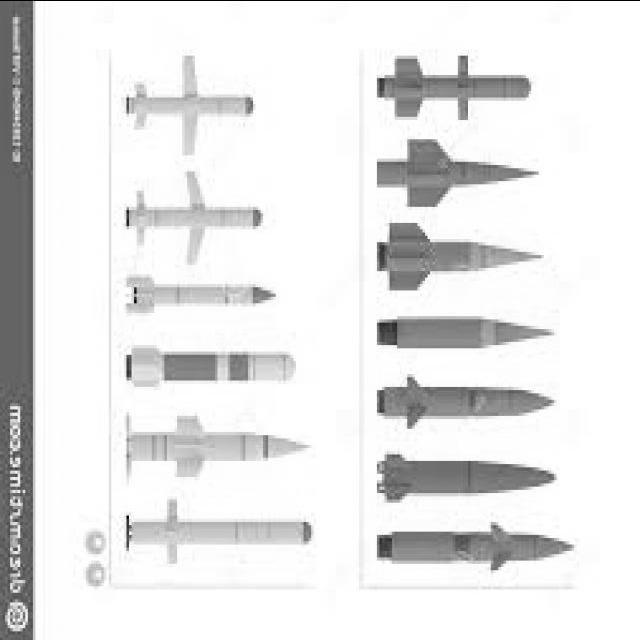missile: (109, 496, 325, 570), (376, 520, 586, 584), (356, 366, 558, 432), (122, 328, 299, 402), (369, 444, 571, 506), (122, 266, 295, 324)
